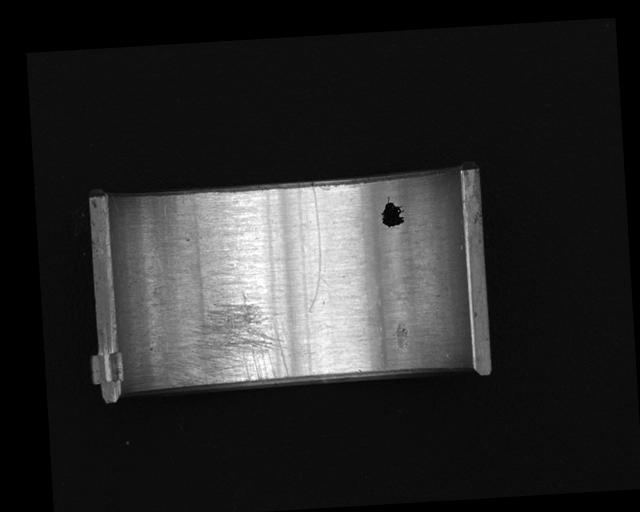blot: (379, 194, 405, 229)
bruise: (393, 322, 409, 349)
nick: (300, 184, 325, 314)
scratch: (168, 289, 291, 390)
